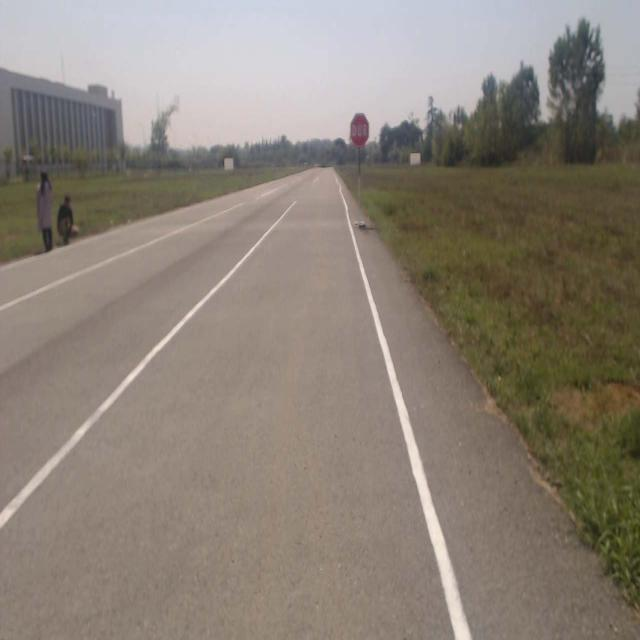dur: (351, 113, 369, 147)
